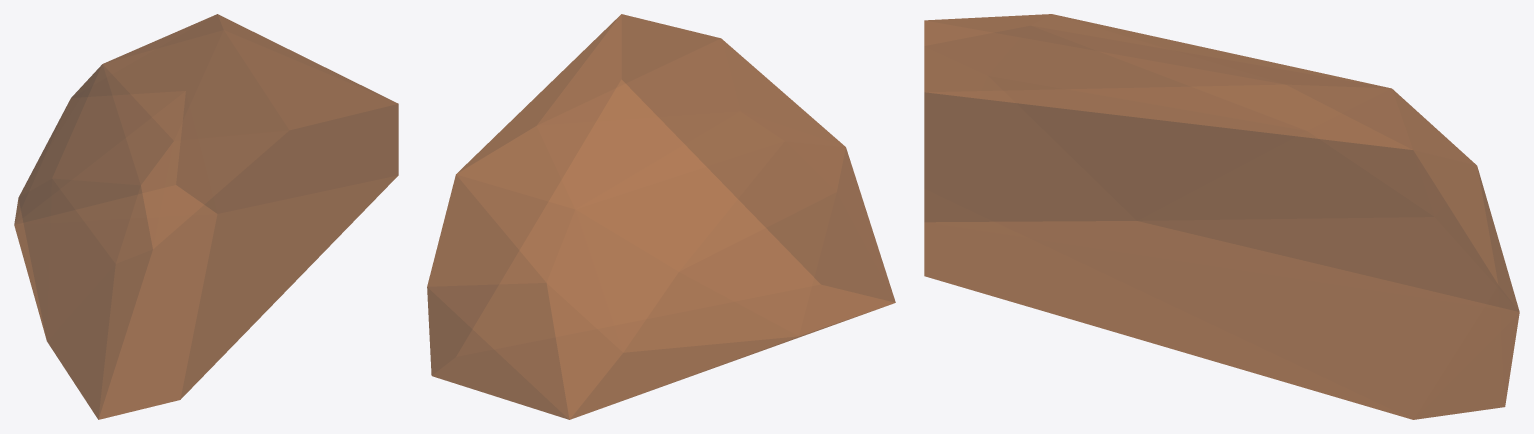
The picture shows the model from 3 angles, left to right: view 1: azimuth 30°, elevation 25°; view 2: azimuth 150°, elevation 25°; view 3: azimuth 270°, elevation 25°; orthographic projection. The views are drawn at different scales.
Parts seen in each view (by area): view 1: Shape_IndexedFaceSet.005_Shape_IndexedFaceSet.6187; view 2: Shape_IndexedFaceSet.005_Shape_IndexedFaceSet.6187; view 3: Shape_IndexedFaceSet.005_Shape_IndexedFaceSet.6187.
Boxes of the visible parts, bbox=[...] form: Shape_IndexedFaceSet.005_Shape_IndexedFaceSet.6187: bbox=[14, 14, 398, 419]; Shape_IndexedFaceSet.005_Shape_IndexedFaceSet.6187: bbox=[427, 14, 895, 419]; Shape_IndexedFaceSet.005_Shape_IndexedFaceSet.6187: bbox=[924, 14, 1519, 419].
Size of the model in its own units: 0.0516 by 0.0398 by 0.0656.
